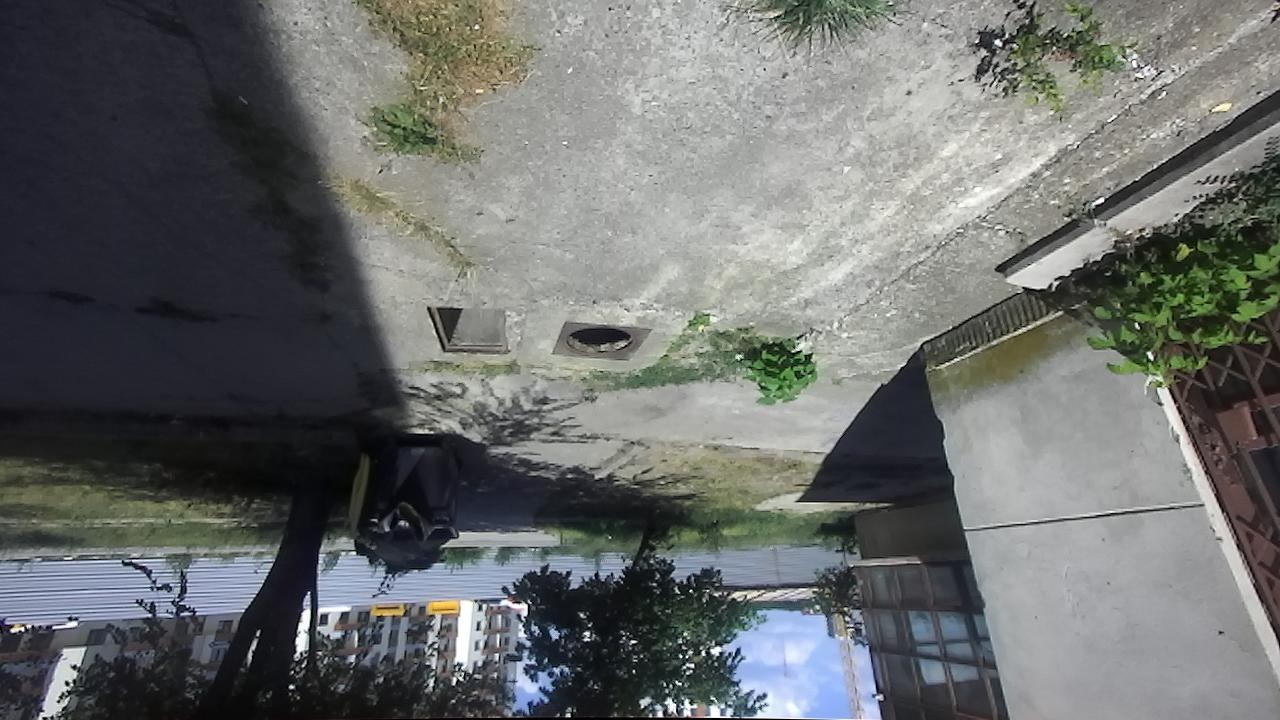drain: (425, 305, 511, 357), (561, 322, 637, 359)
